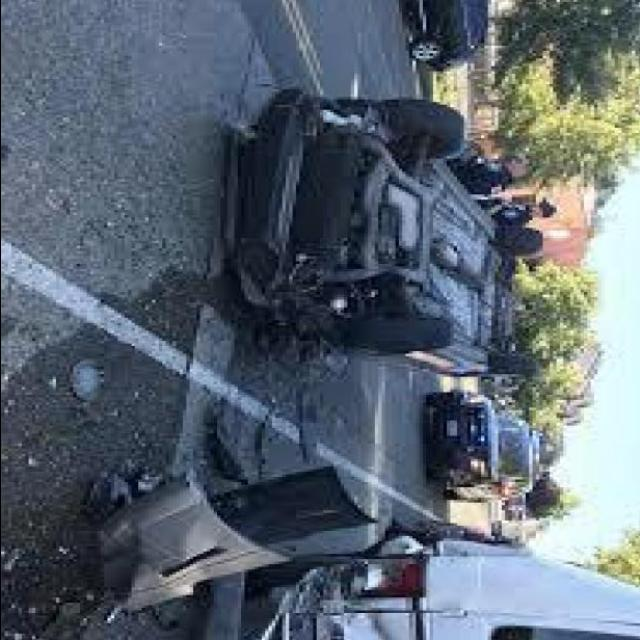accident: (218, 85, 546, 383)
